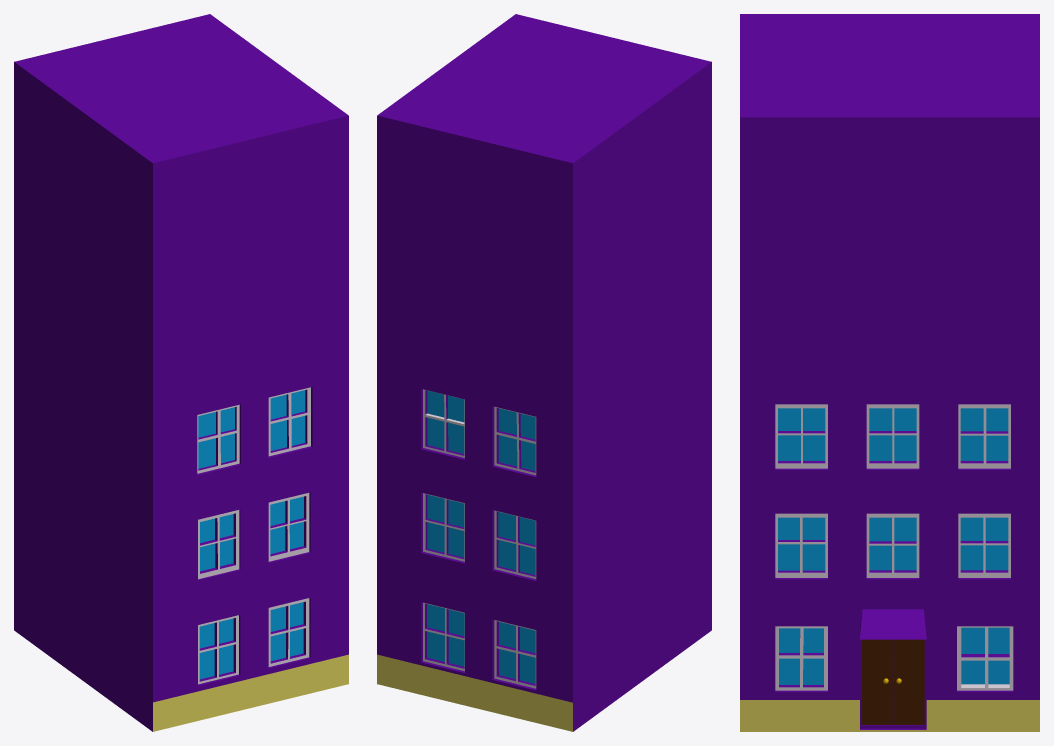
File: High Rise 7 Purple.fbx
3 views of the same model, side by side, from view 1: azimuth 30°, elevation 25°; view 2: azimuth 150°, elevation 25°; view 3: azimuth 270°, elevation 25° (orthographic). The views are drawn at different scales.
Visible parts, largest first — view 1: Cube; view 2: Cube; view 3: Cube.
Part boxes in pixels (x1,y1,x2,y2): Cube: (14,14,348,731); Cube: (377,14,711,731); Cube: (740,14,1039,731).
Bounding box in the file's own units: 314 × 791 × 350.
